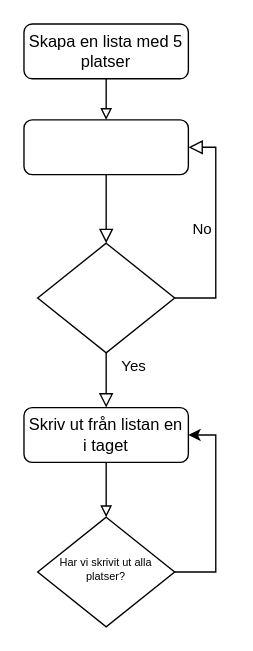
The diagram is 253 pixels wide and 651 high, and some of its shapes have lost their labels. The centre of each missing label's shape, as x and y in pixels:
"Fyll listan med en plats" belongs at point (105, 147).
"Är listan fylld?" belongs at point (105, 297).
